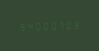four: (25, 20, 32, 31)
nine: (17, 21, 24, 31)
seven: (57, 19, 64, 30)
three: (73, 19, 80, 29)
zero: (33, 20, 40, 31), (41, 20, 48, 31), (65, 19, 72, 30), (49, 20, 56, 30)
